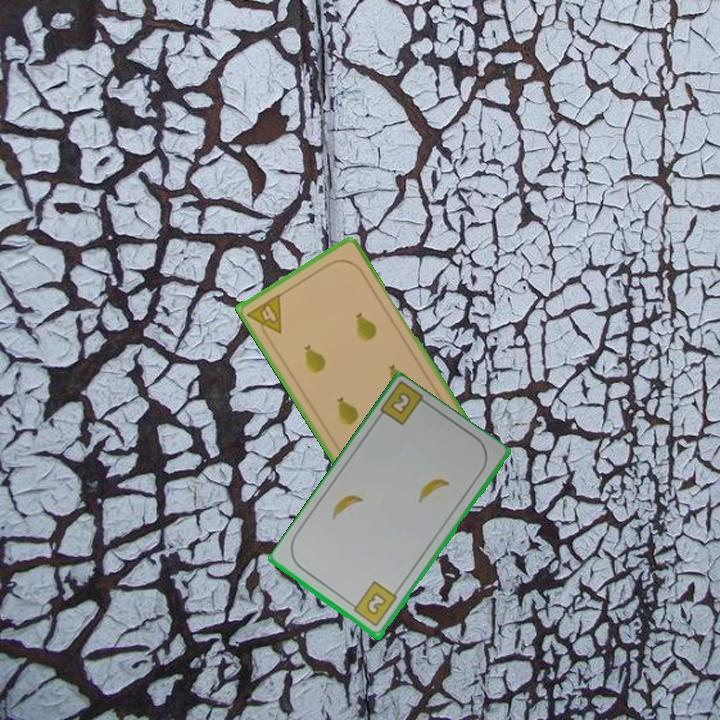2b: (346, 578, 400, 630), (387, 389, 414, 418)
4p: (243, 290, 285, 342)
